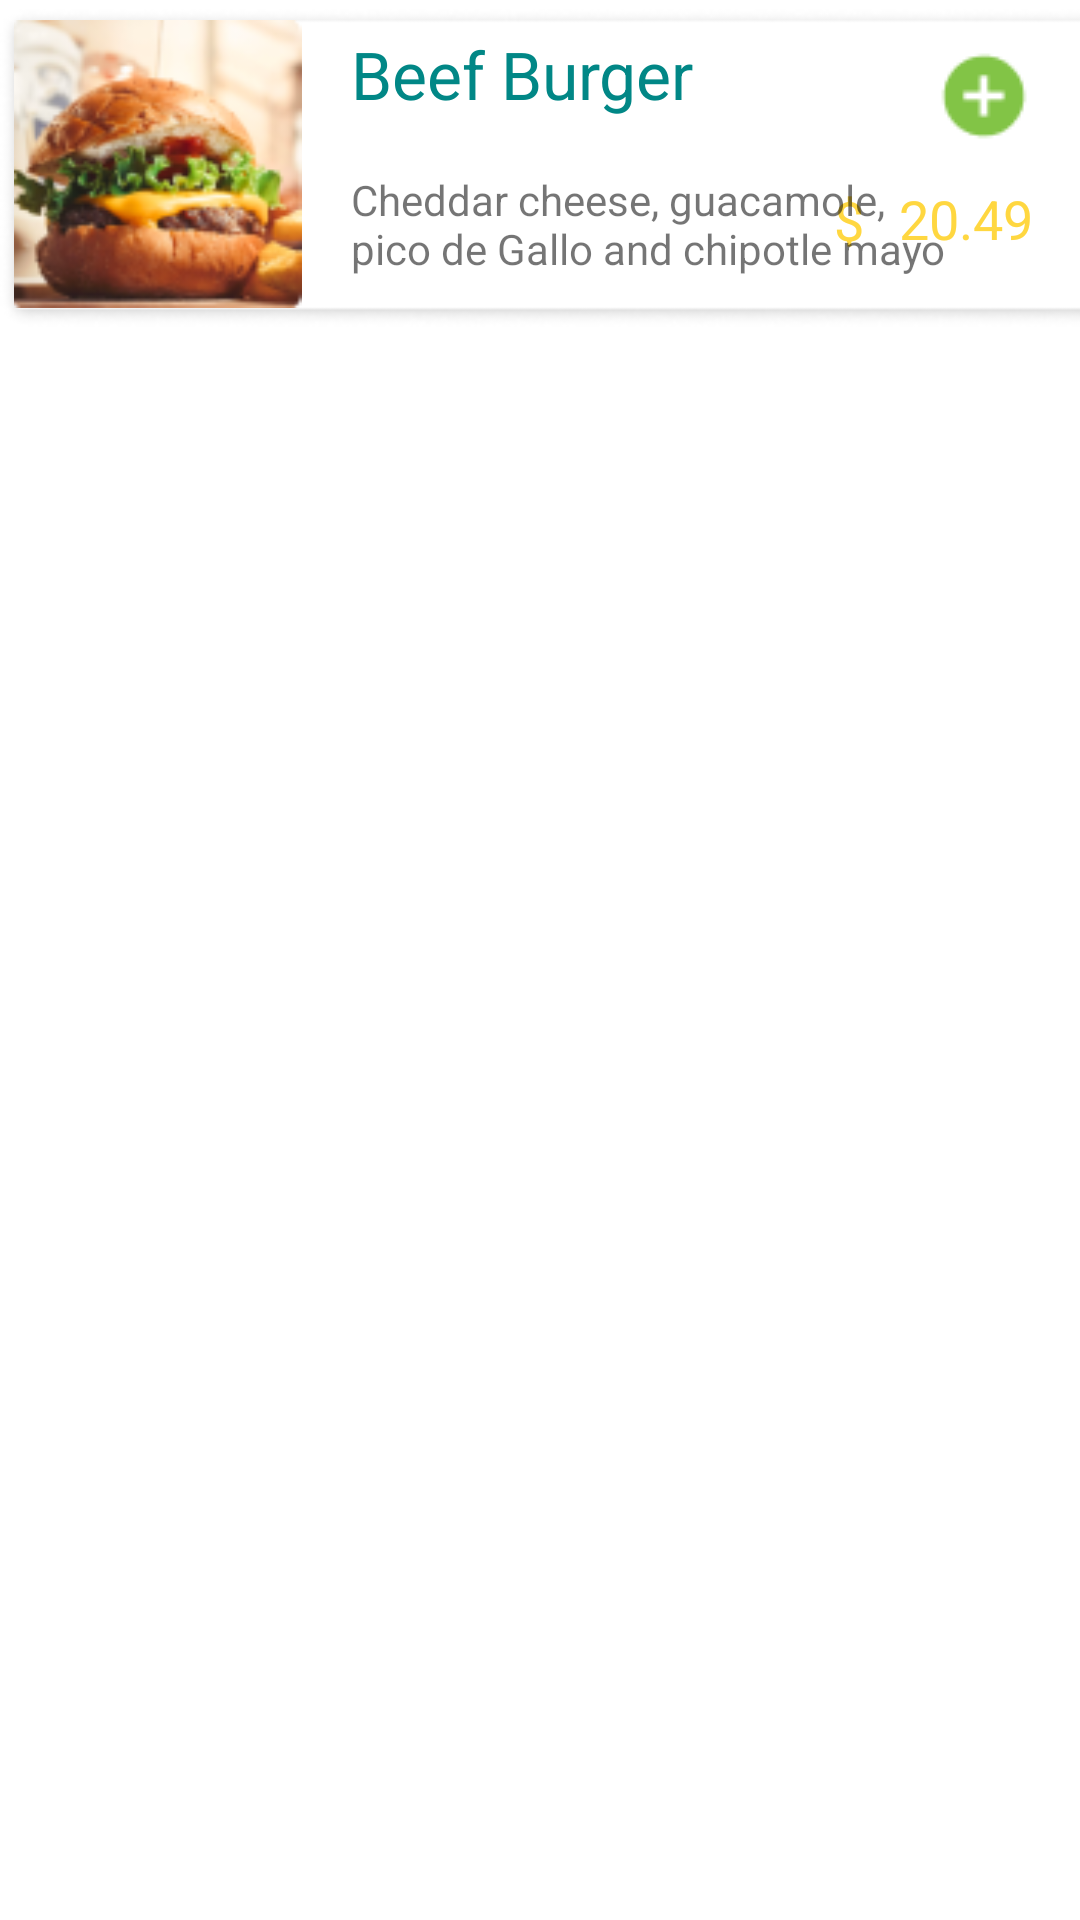

Screen size 1080px x 1920px. Icon name, then its box in pixels as BBox(x1, y1, x2, y2):
add circle: BBox(942, 54, 1026, 138)
